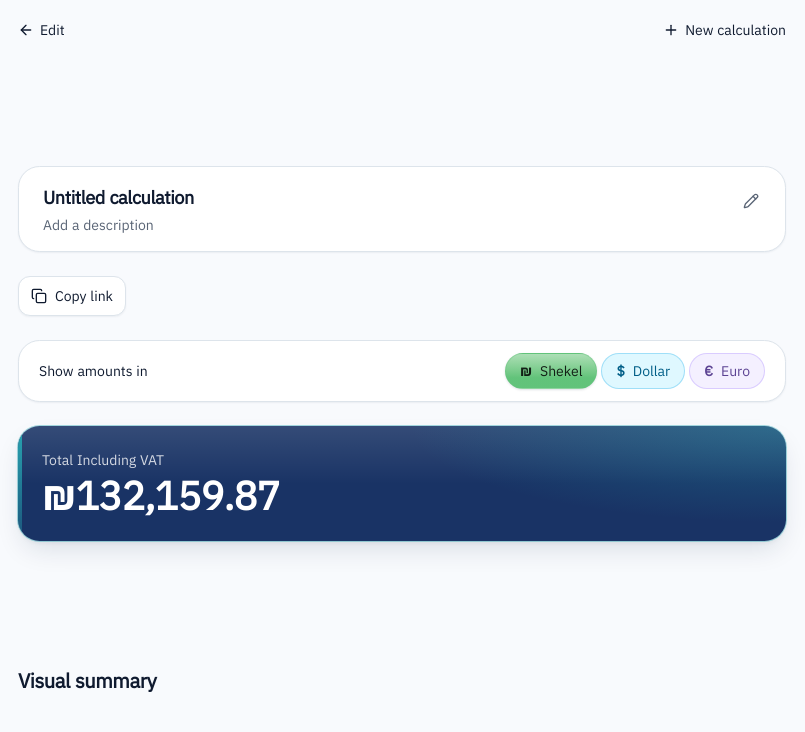
Scenario: ResultView › renames the Calculation and keeps the new title in the link
The width and height of the screenshot is (805, 732).
Expected: the heading "Untitled calculation" is shown, left=43, top=183, right=194, bottom=211
Click the button named "Edit title and description" at coordinates (751, 201), box left=733, top=183, right=769, bottom=219
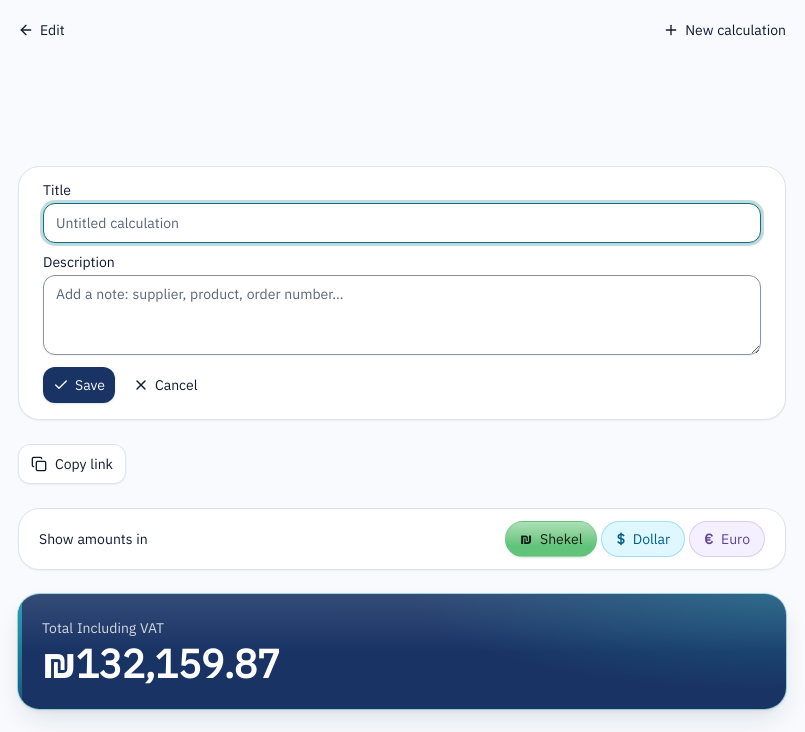
Type "Shoes order" into the field labelled "Title" at coordinates (402, 223), box left=43, top=203, right=761, bottom=243
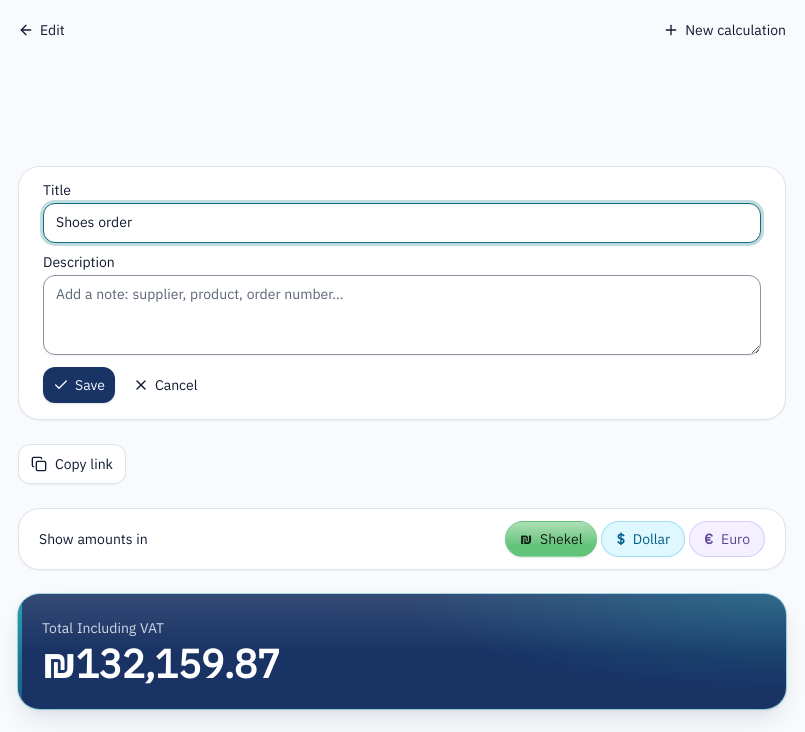
Click the button "Save" at coordinates (79, 385), box left=43, top=367, right=115, bottom=403
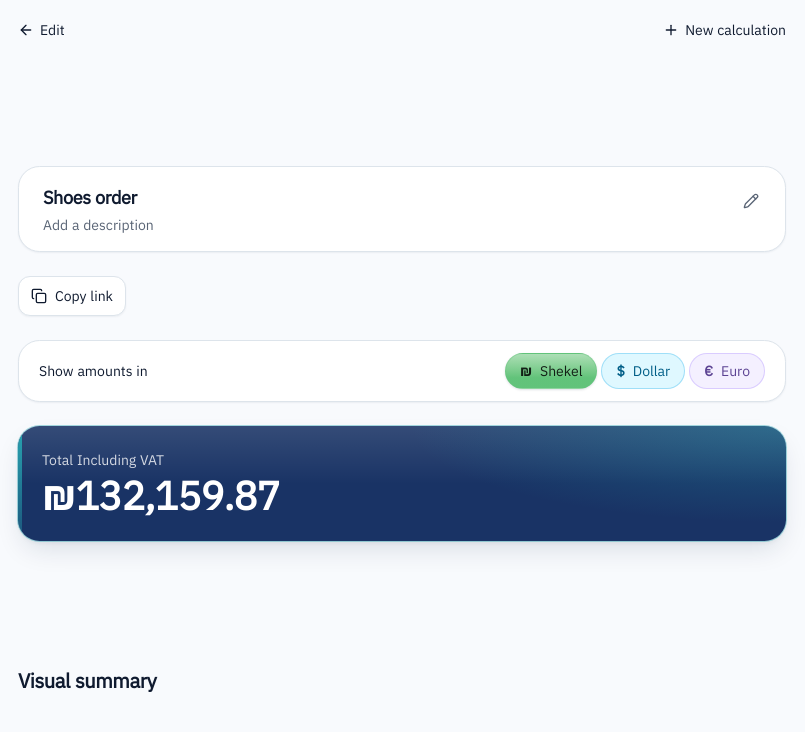
Expected: the heading "Shoes order" is shown, left=43, top=185, right=137, bottom=209
